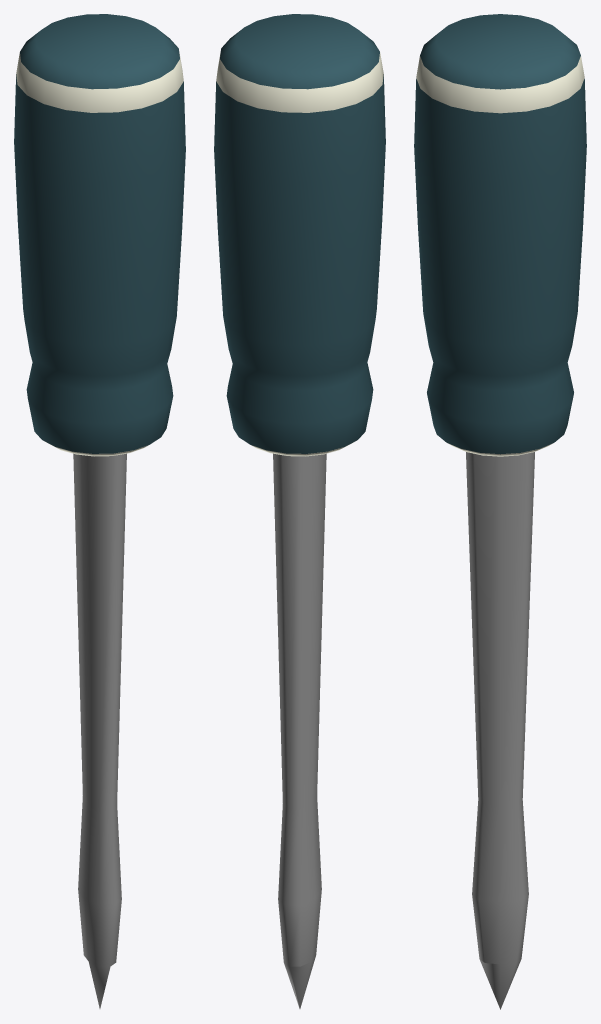
Rendered from Town_5_Screwdriver_1.glb.
3 views of the same model, side by side, from view 1: azimuth 30°, elevation 25°; view 2: azimuth 150°, elevation 25°; view 3: azimuth 270°, elevation 25° (orthographic).
Parts seen in each view (by area): view 1: Town_5_Screwdriver_1; view 2: Town_5_Screwdriver_1; view 3: Town_5_Screwdriver_1.
Part boxes in pixels (x1,y1,x2,y2): Town_5_Screwdriver_1: [14, 14, 185, 1008]; Town_5_Screwdriver_1: [214, 14, 385, 1008]; Town_5_Screwdriver_1: [414, 14, 586, 1009].
Bounding box in the file's own units: 0.0763 × 0.472 × 0.0763.
1 material, 1 textured.
